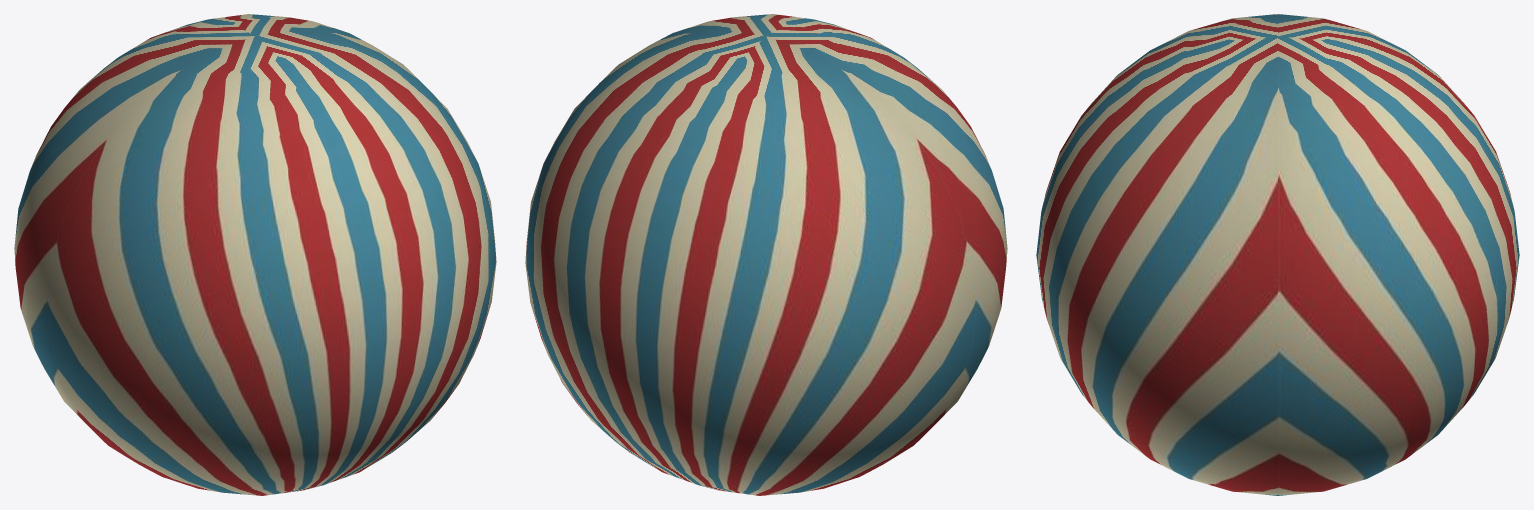
File: Ball.fbx
3 renders of one model, left to right at view 1: azimuth 30°, elevation 25°; view 2: azimuth 150°, elevation 25°; view 3: azimuth 270°, elevation 25°, orthographic.
Parts seen in each view (by area): view 1: Sphere; view 2: Sphere; view 3: Sphere.
Part boxes in pixels (x1=…): Sphere: x1=14, y1=14, x2=496, y2=495; Sphere: x1=525, y1=14, x2=1007, y2=495; Sphere: x1=1036, y1=14, x2=1519, y2=495.
Bounding box in the file's own units: 100 × 100 × 100.
